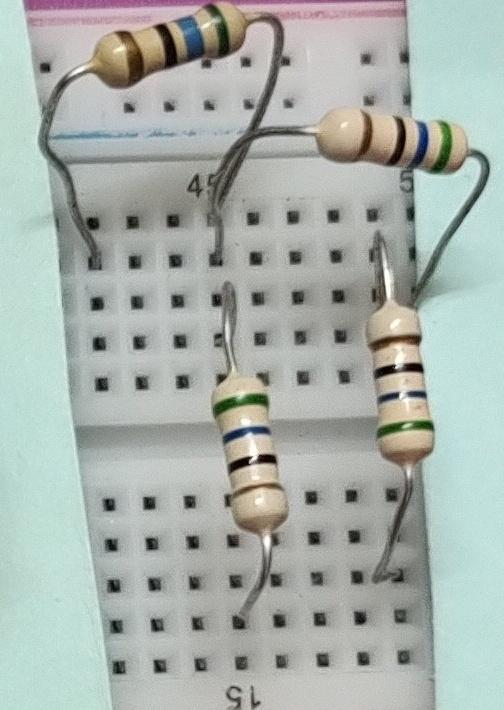resistor: (348, 286, 460, 501), (186, 365, 310, 546), (82, 0, 266, 109), (310, 98, 480, 200)
